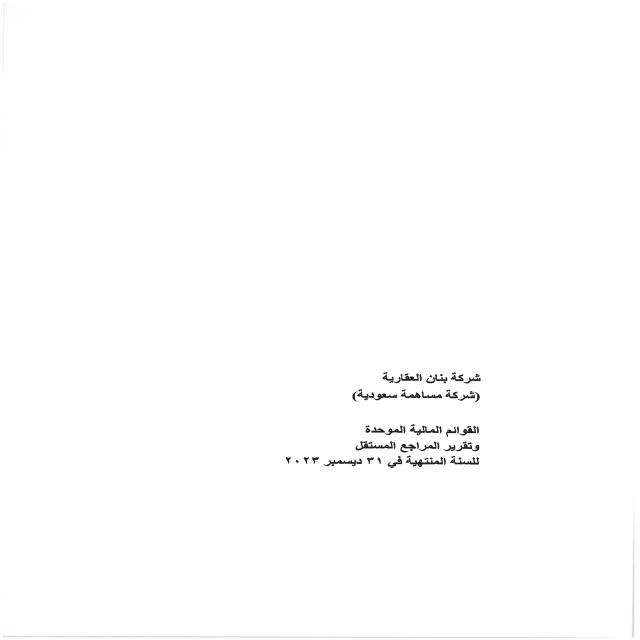other: (186, 336, 501, 522)
